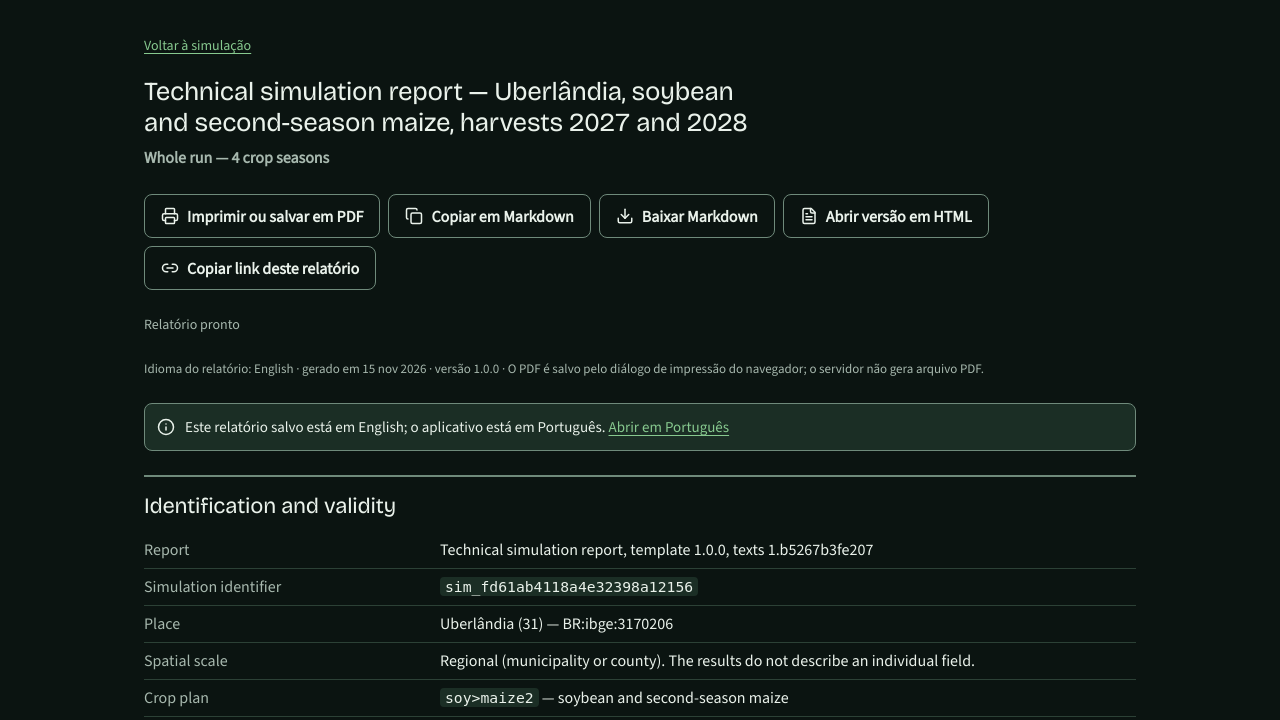
a saved report in another language is shown as such, with the app language one click away
Check: the heading named "Technical simulation report — Uberlândia, soybean and second-season maize, harvests 2027 and 2028" is shown, box 144,76 -> 748,138
Check: the element with test id "report-language-notice" shows "Este relatório salvo está em English; o aplicativo está em Português.", box 185,417 -> 606,437
Click the link "Abrir em Português": (669, 427) 608,417 -> 729,437
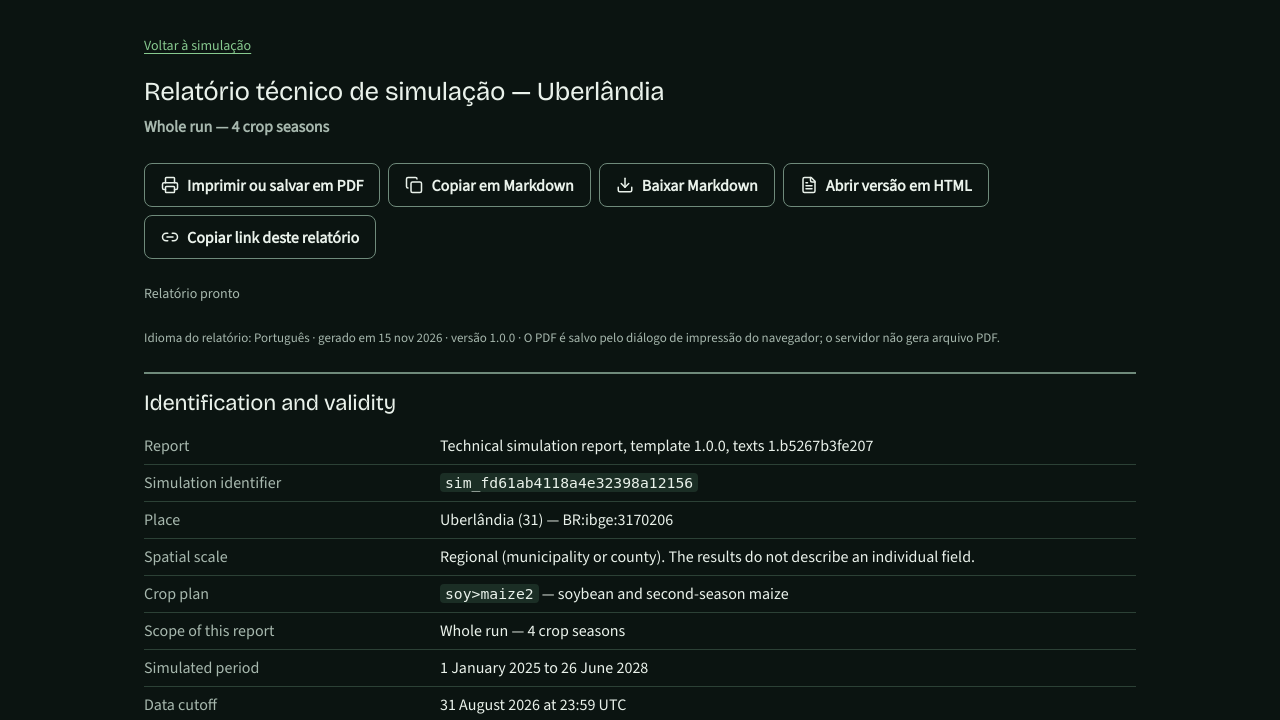
Check: the heading "Relatório técnico de simulação — Uberlândia" is shown, box 144,76 -> 664,107
